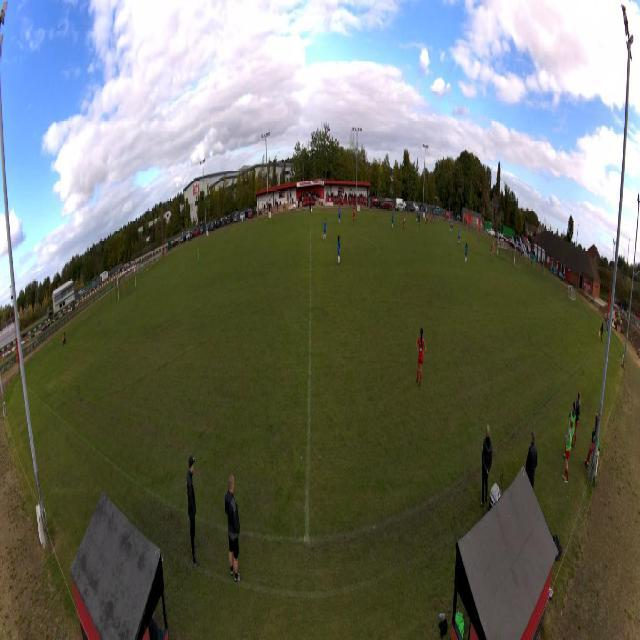player: (415, 326, 426, 387), (337, 234, 341, 265), (464, 241, 468, 265), (323, 218, 327, 242), (197, 245, 200, 269), (476, 233, 480, 250), (352, 207, 356, 224), (338, 206, 341, 225), (392, 211, 395, 230), (458, 227, 461, 245), (403, 215, 406, 232), (418, 213, 421, 227), (425, 214, 428, 225), (416, 213, 419, 224), (493, 239, 495, 255), (491, 246, 493, 262), (452, 221, 454, 233), (450, 221, 452, 233), (433, 213, 435, 223), (430, 213, 432, 223), (434, 213, 435, 224), (425, 214, 426, 223)
